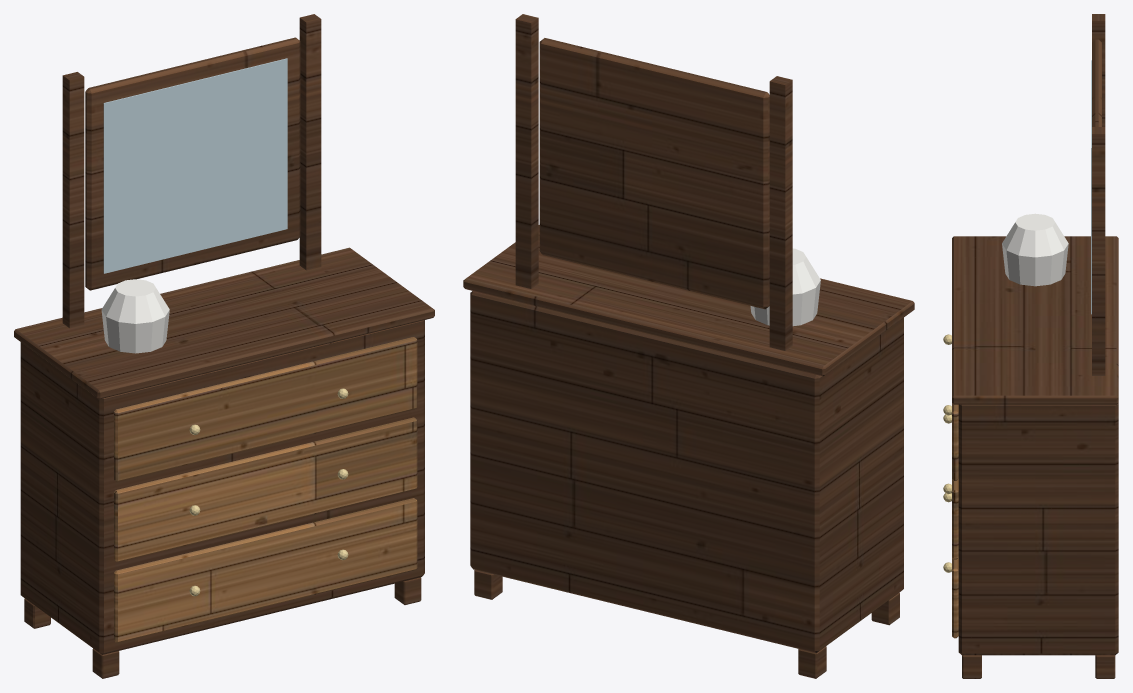
The model's file is dresser.glb.
The picture shows the model from 3 angles, left to right: view 1: azimuth 30°, elevation 25°; view 2: azimuth 150°, elevation 25°; view 3: azimuth 270°, elevation 25°; orthographic projection. The views are drawn at different scales.
Visible parts, largest first — view 1: dresser_dkwood, dresser_wood, dresser_glass, dresser_enamel; view 2: dresser_dkwood, dresser_enamel; view 3: dresser_dkwood, dresser_enamel, dresser_wood, dresser_brass.
Part boxes in pixels (x1=…): dresser_dkwood: x1=14, y1=14, x2=434, y2=678; dresser_wood: x1=114, y1=337, x2=417, y2=642; dresser_glass: x1=103, y1=58, x2=287, y2=273; dresser_enamel: x1=101, y1=279, x2=169, y2=353; dresser_dkwood: x1=463, y1=14, x2=914, y2=678; dresser_enamel: x1=750, y1=248, x2=820, y2=326; dresser_dkwood: x1=952, y1=14, x2=1118, y2=678; dresser_enamel: x1=1002, y1=213, x2=1068, y2=286; dresser_wood: x1=952, y1=403, x2=958, y2=638; dresser_brass: x1=943, y1=334, x2=951, y2=572.
Bounding box in the file's own units: 1.14 × 1.75 × 0.526.
5 materials, 2 textured.
